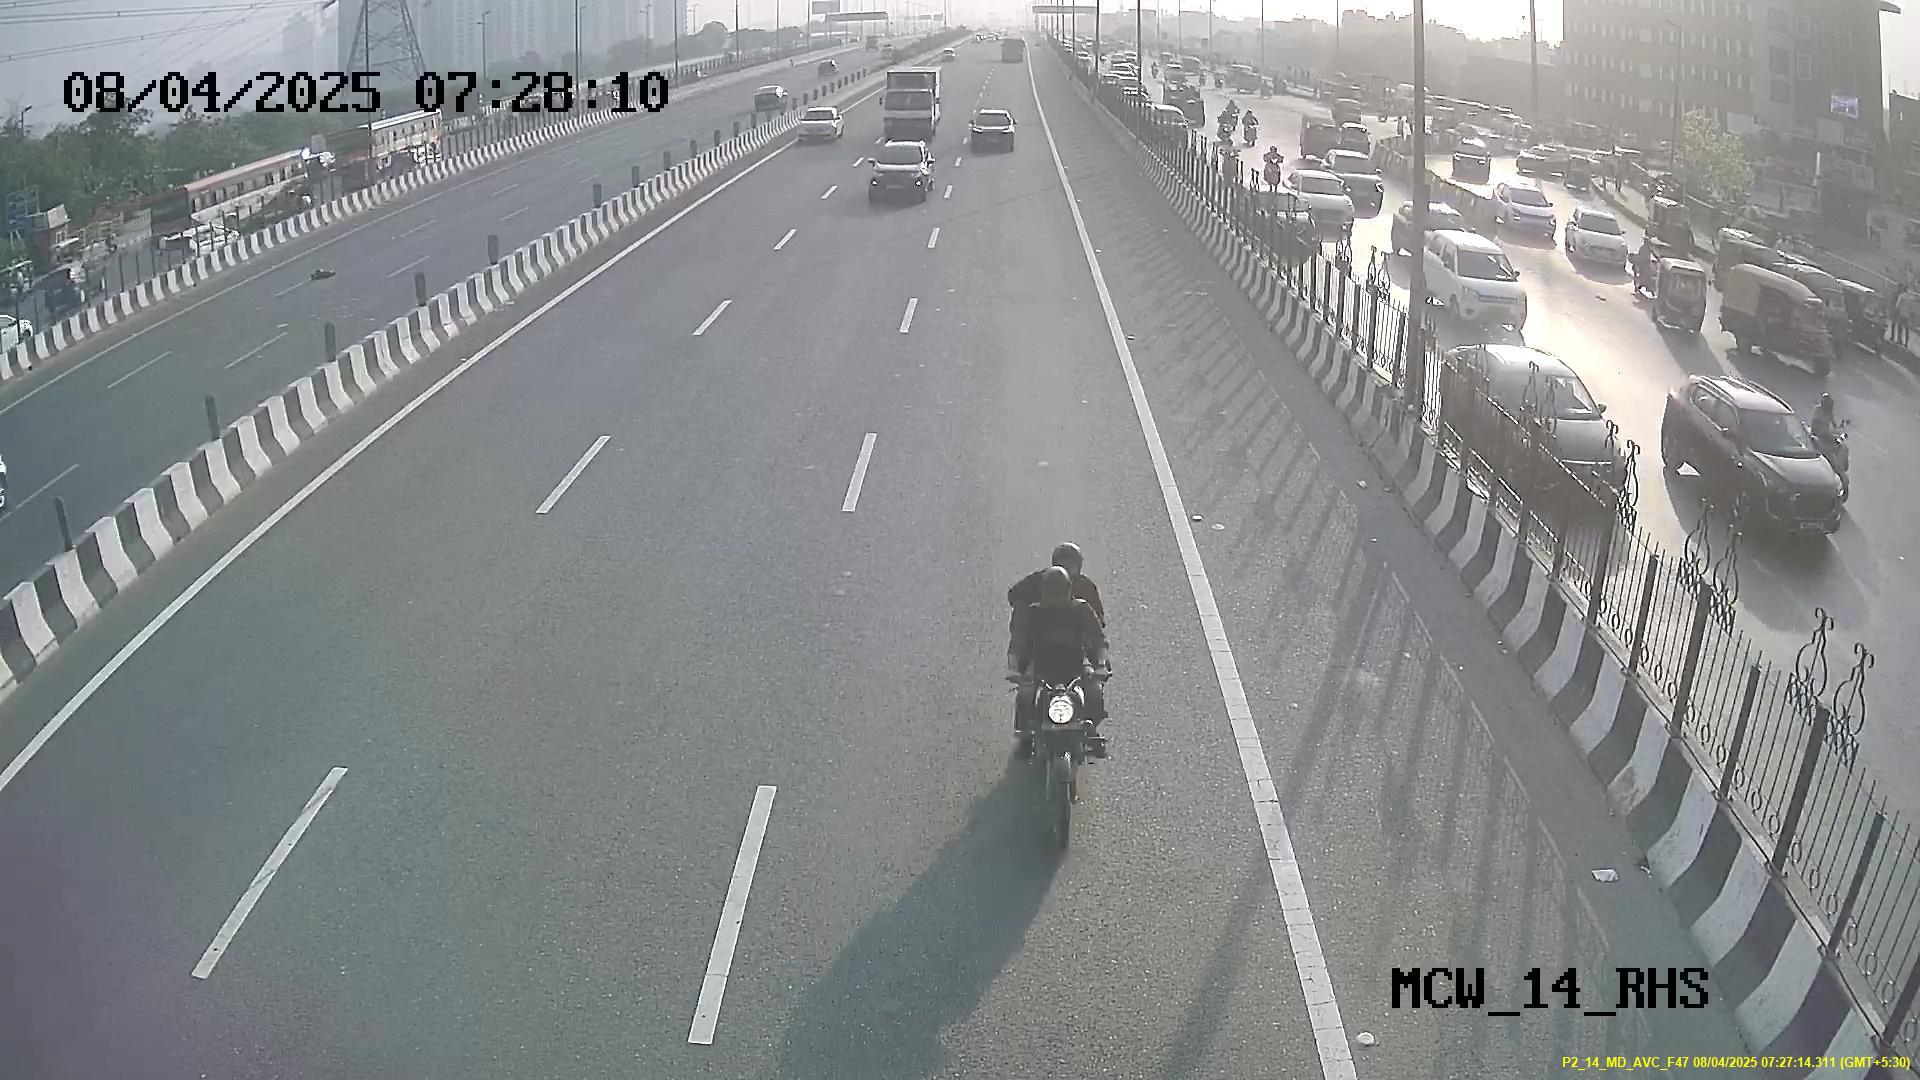bike: (989, 539, 1120, 840)
